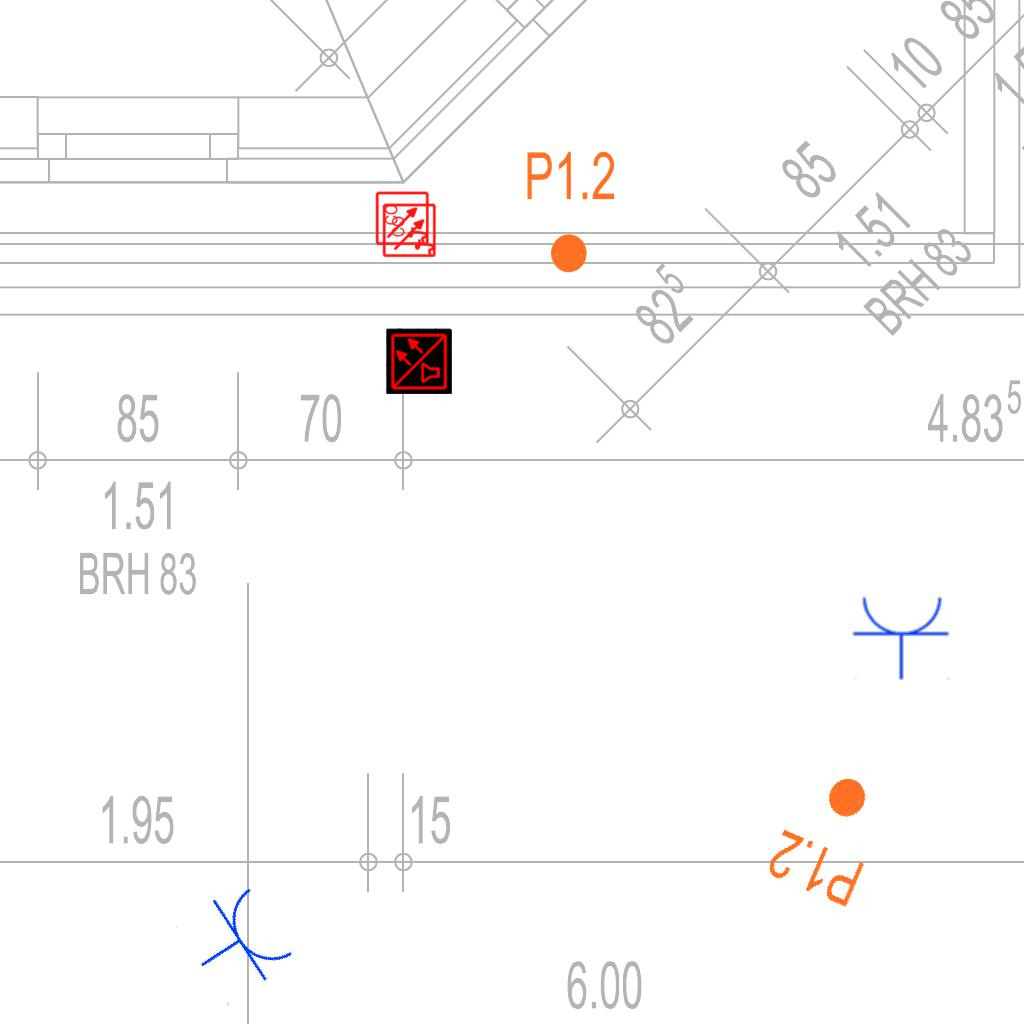Downlight_LED_Einbauleuchten_Flur: (761, 757, 898, 913), (524, 148, 617, 276)
OKW_Multisensormelder_(Kombination_optischer_Rauch-Kahlenmonoxid_Waerme-Melder): (386, 328, 452, 394)
ROA_Rauchmelder_optisch_mit_Signalgeber_(Sockelsirene): (375, 190, 431, 246), (382, 202, 438, 258)
Schukosteckdose_einfach: (174, 876, 302, 1009), (852, 593, 952, 680)
